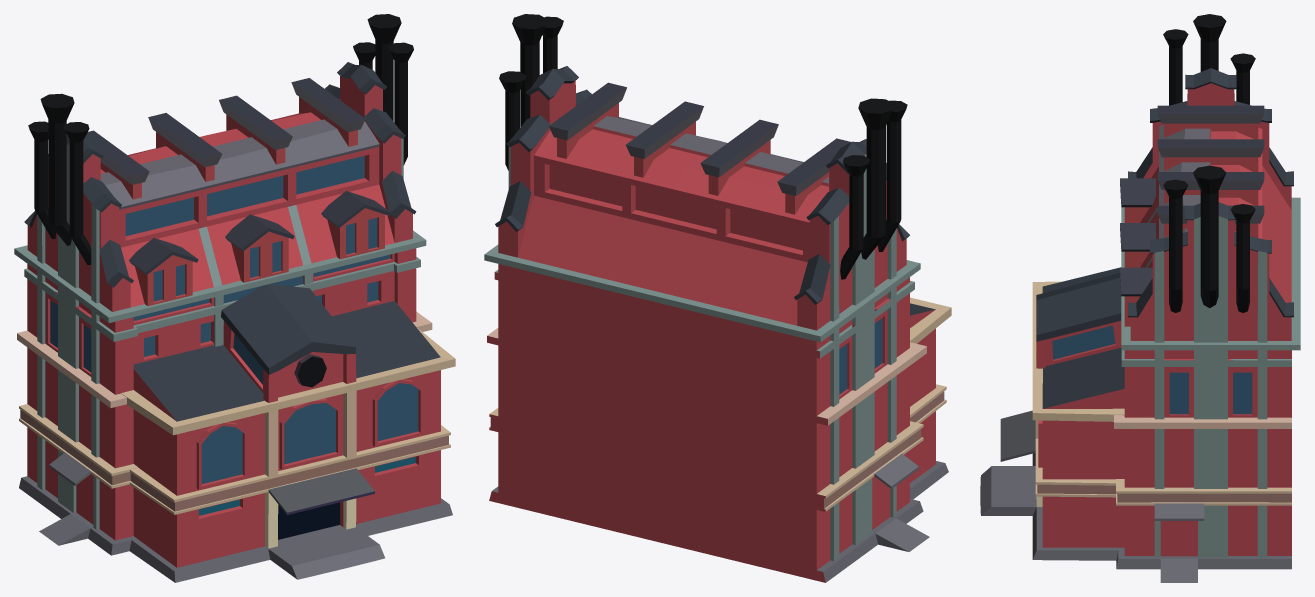
The model's file is zavod.fbx.
3 views of the same model, side by side, from view 1: azimuth 30°, elevation 25°; view 2: azimuth 150°, elevation 25°; view 3: azimuth 270°, elevation 25° (orthographic). The views are drawn at different scales.
Parts seen in each view (by area): view 1: Cube.094, Cube.095, Cube.093; view 2: Cube.094, Cube.093; view 3: Cube.094, Cube.093, Cube.095.
Boxes of the visible parts, x1,y1,x2,y2 form: Cube.094: [14, 14, 455, 582]; Cube.095: [129, 191, 390, 305]; Cube.093: [85, 78, 365, 199]; Cube.094: [484, 14, 951, 582]; Cube.093: [549, 82, 850, 214]; Cube.094: [980, 14, 1300, 582]; Cube.093: [1157, 105, 1264, 237]; Cube.095: [1120, 178, 1155, 326].
Size of the model in its own units: 3349 by 3566 by 2597.
